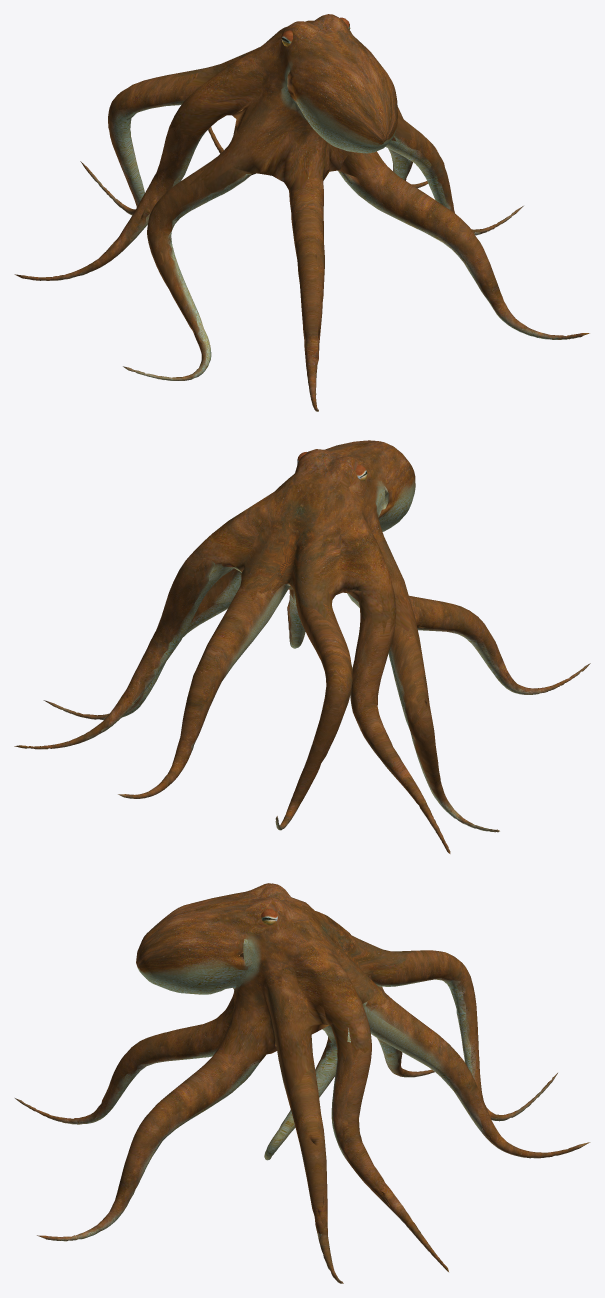
3 renders of one model, top to bottom at view 1: azimuth 30°, elevation 25°; view 2: azimuth 150°, elevation 25°; view 3: azimuth 270°, elevation 25°, orthographic. The views are drawn at different scales.
Visible parts, largest first — view 1: BODY; view 2: BODY; view 3: BODY.
Boxes of the visible parts, box(x1,y1,x2,y2) form: BODY: box(14, 14, 589, 411); BODY: box(14, 440, 590, 853); BODY: box(15, 883, 590, 1283).
Size of the model in its own units: 93.03 by 64.49 by 102.
